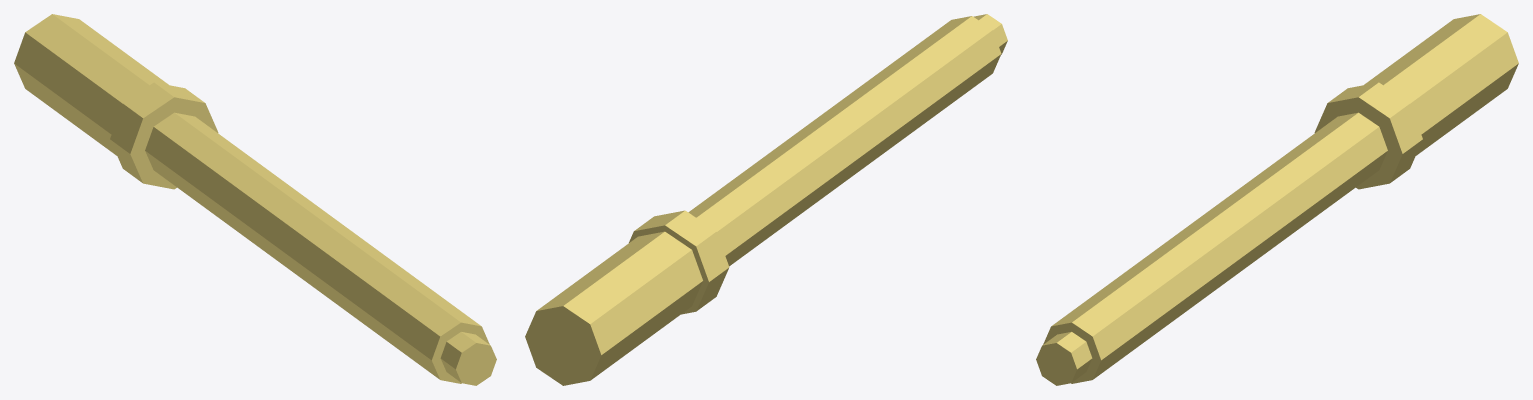
Rendered from contact-m12-pin.glb.
3 views of the same model, side by side, from view 1: azimuth 30°, elevation 25°; view 2: azimuth 150°, elevation 25°; view 3: azimuth 330°, elevation 25° (orthographic).
Parts seen in each view (by area): view 1: self; view 2: self; view 3: self.
Boxes of the visible parts, left/top/right/bottom form: self: left=14, top=14, right=496, bottom=385; self: left=525, top=14, right=1007, bottom=385; self: left=1036, top=14, right=1518, bottom=385.
Size of what is drawn, in the model's own units: 0.0015 by 0.0015 by 0.0125.
